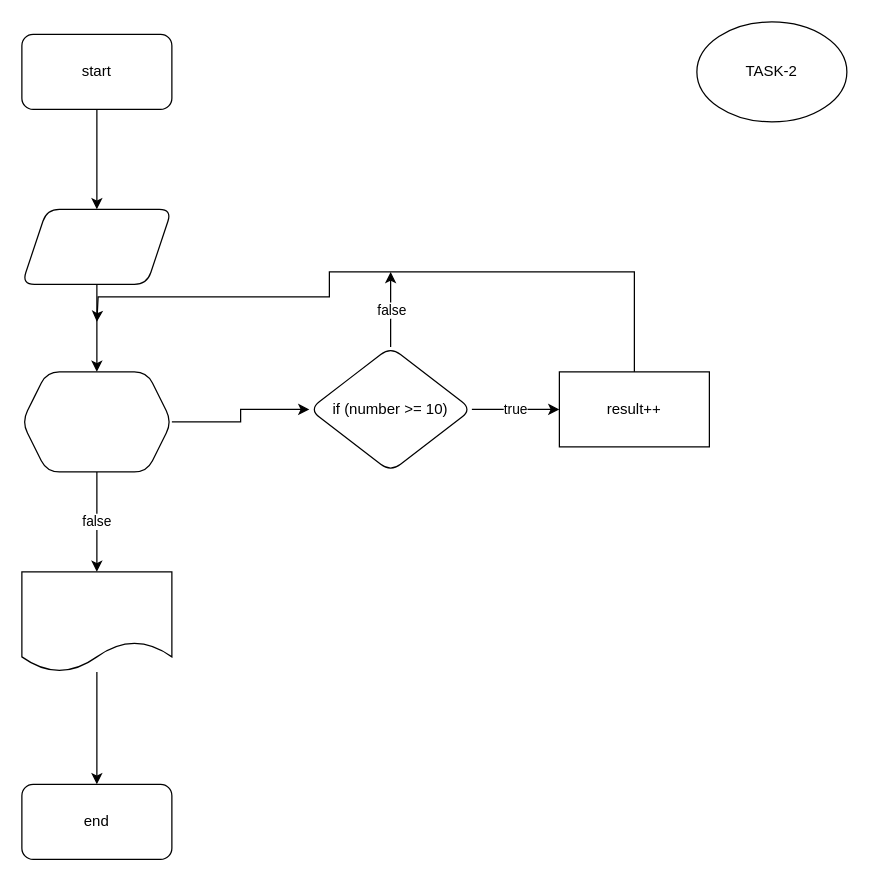
The diagram is 869 pixels wide and 881 high, and some of its shapes have lost their labels. Each missing label, with the centre of its shape:
int number in numbers: (x=96, y=421)
numbers, result: (x=96, y=246)
result: (x=96, y=621)
